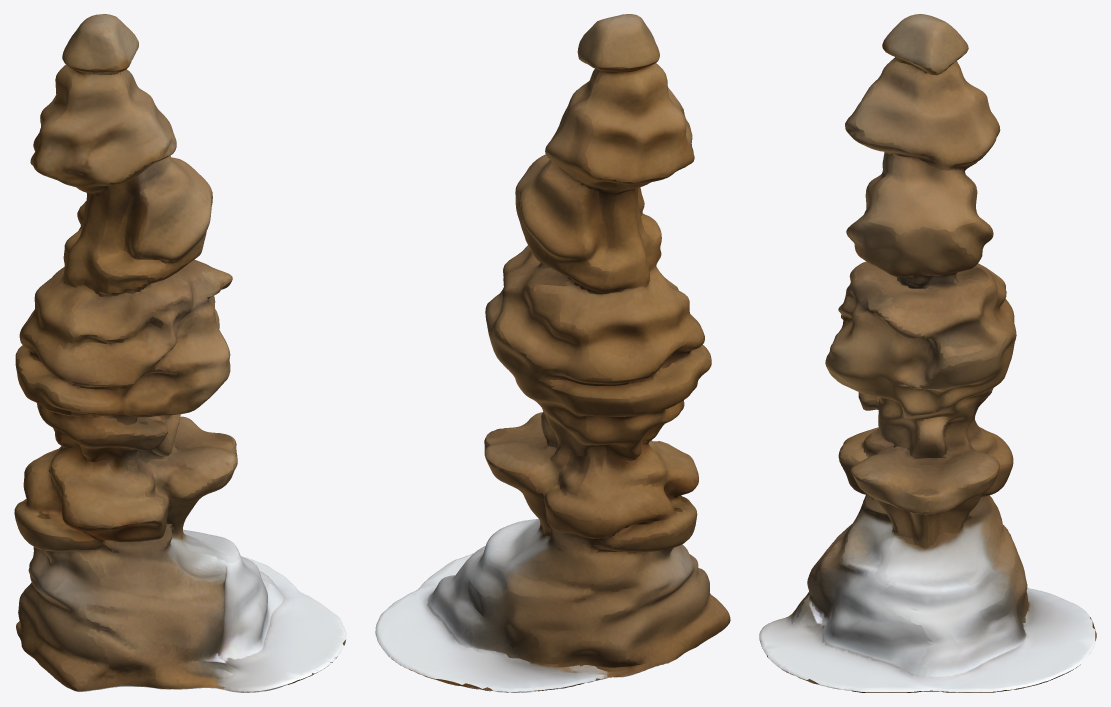
The model's file is ChatGPT Image 2025년 3월 27일 오후 05_37_55.glb.
3 views of the same model, side by side, from view 1: azimuth 30°, elevation 25°; view 2: azimuth 150°, elevation 25°; view 3: azimuth 270°, elevation 25° (orthographic). The views are drawn at different scales.
Visible parts, largest first — view 1: tmp0bm30tp8.ply; view 2: tmp0bm30tp8.ply; view 3: tmp0bm30tp8.ply.
Part boxes in pixels (box(x1,y1,x2,y2)): tmp0bm30tp8.ply: box(14, 14, 346, 692); tmp0bm30tp8.ply: box(375, 14, 730, 692); tmp0bm30tp8.ply: box(759, 14, 1096, 692).
Bounding box in the file's own units: 0.9158 × 1.96 × 1.03.
Materials: 1 (1 with a texture image).
